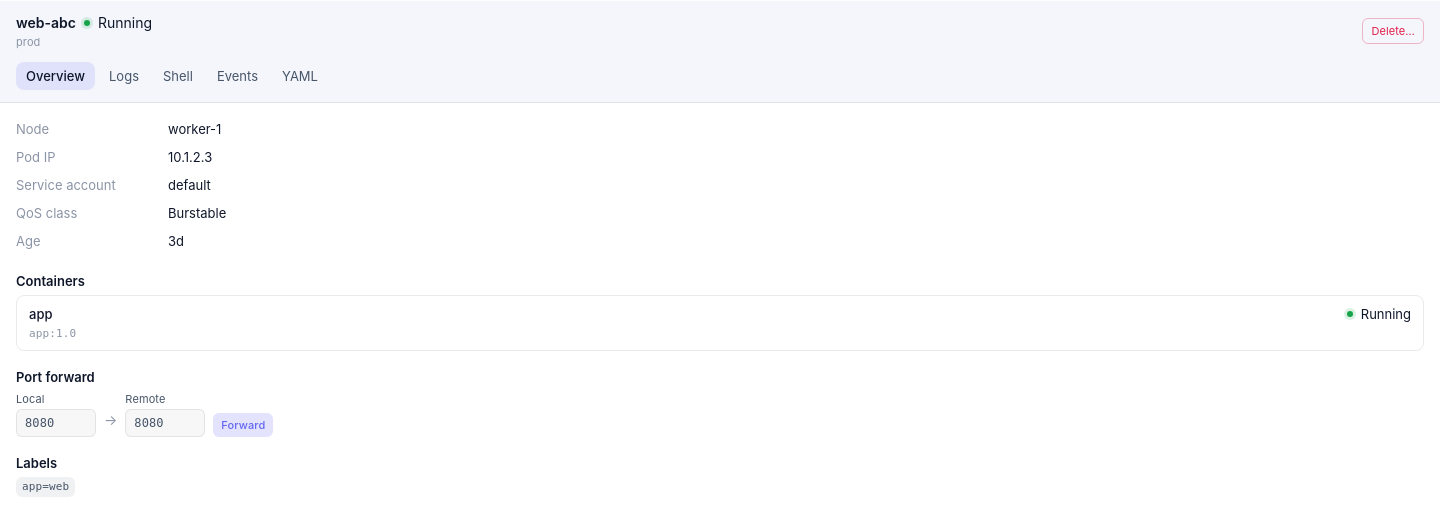
Test: PodDetail tabs › renders the YAML the server sent
The width and height of the screenshot is (1440, 514).
Expected: the text "worker-1" is shown, [168, 119, 221, 139]
Click the button "YAML". click: (300,76)
box: [272, 62, 328, 90]
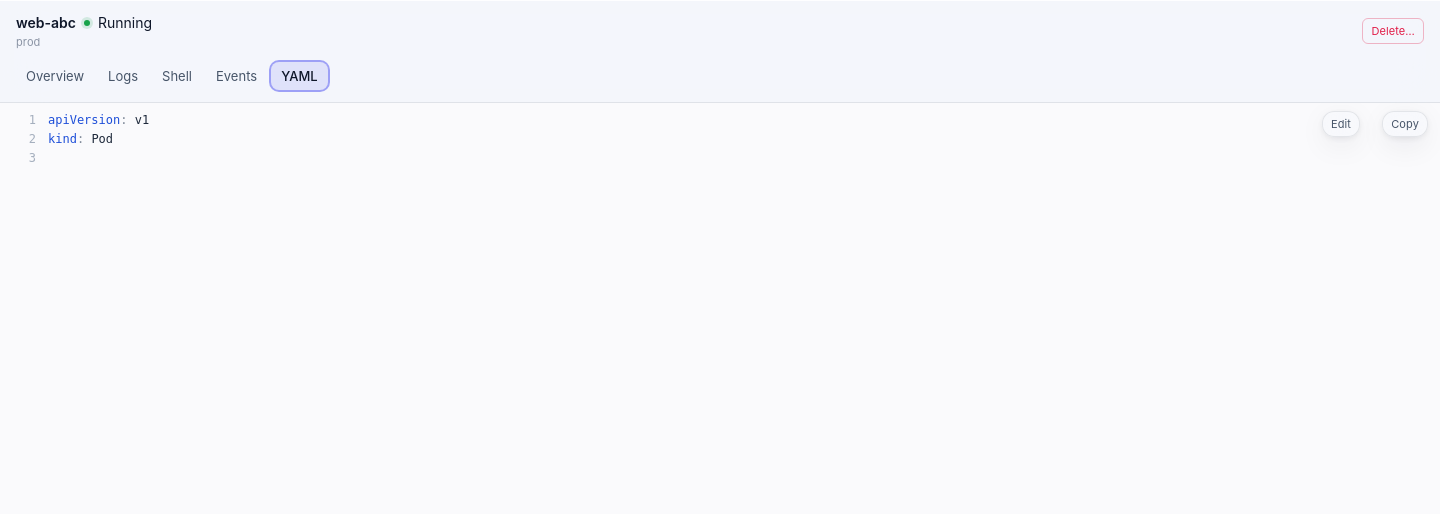
Now the text "kind" is shown, box [48, 132, 77, 146]
